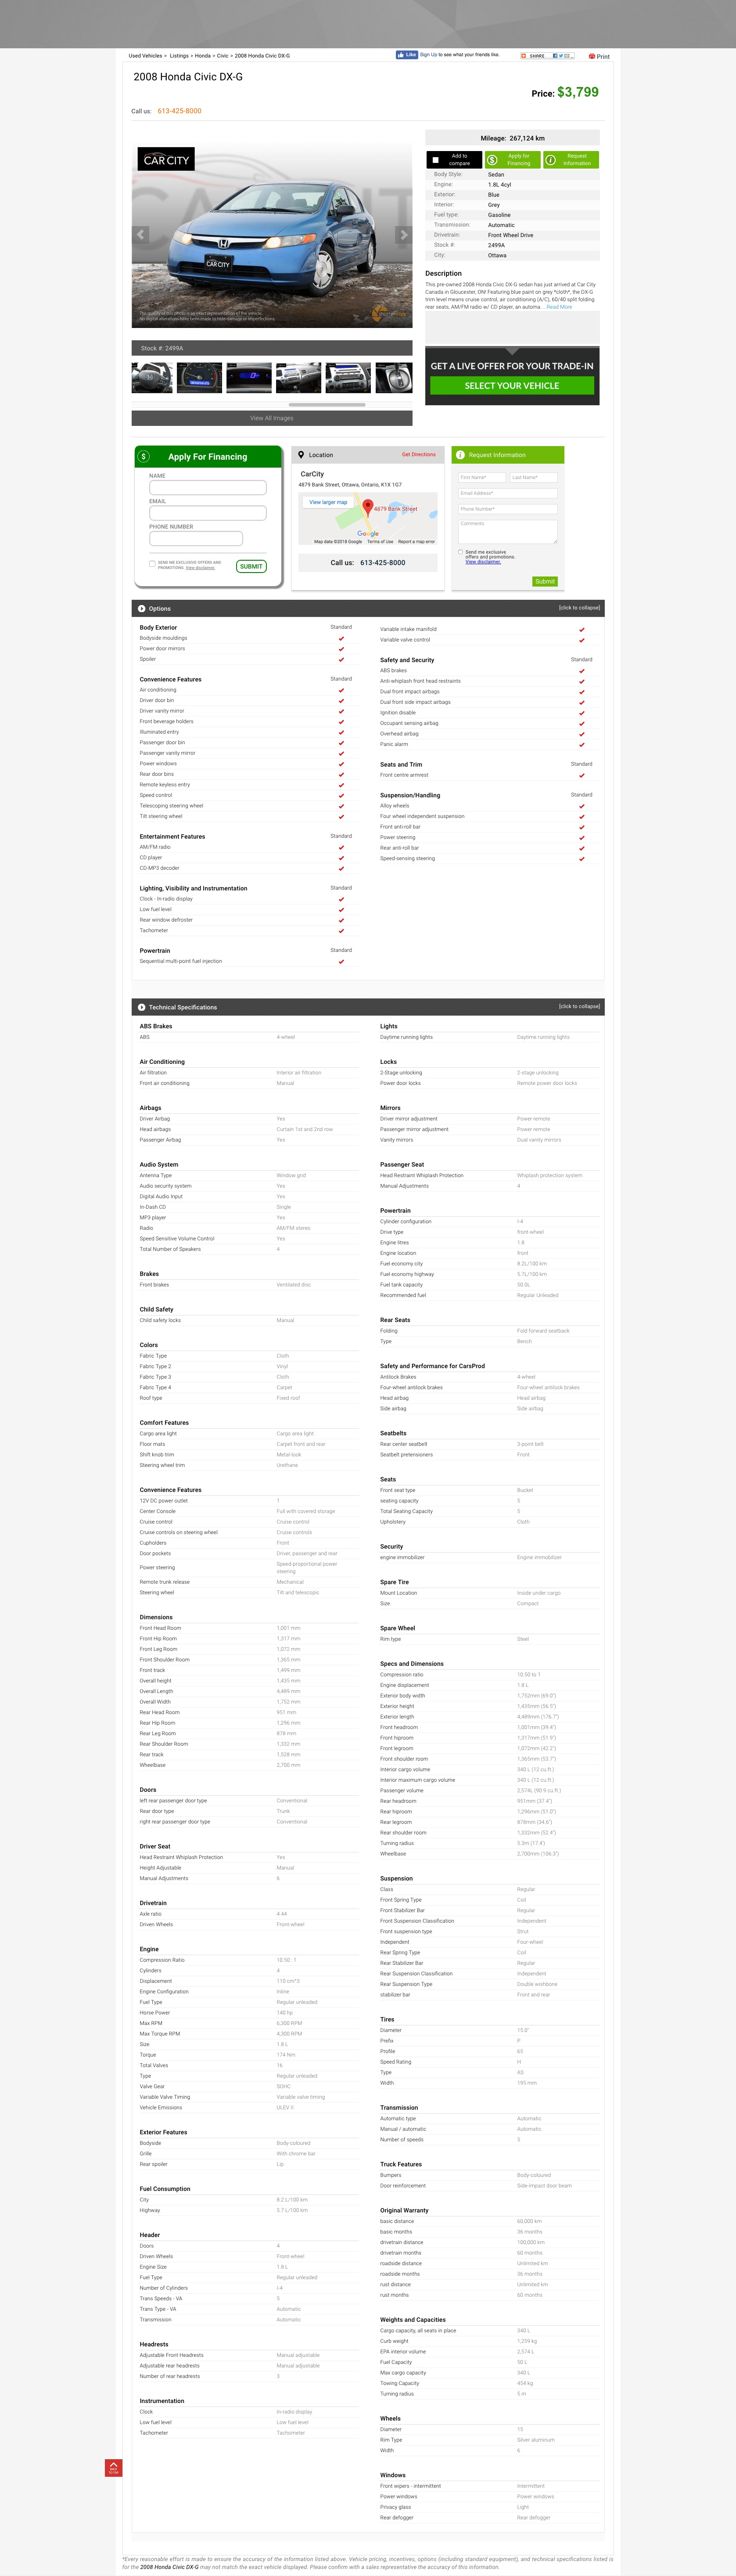car: (394, 225, 414, 245)
